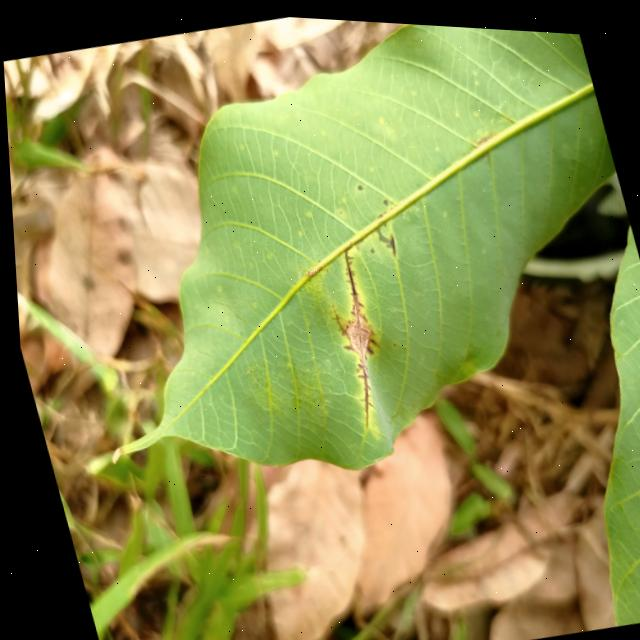Corynespora: (312, 239, 394, 426)
